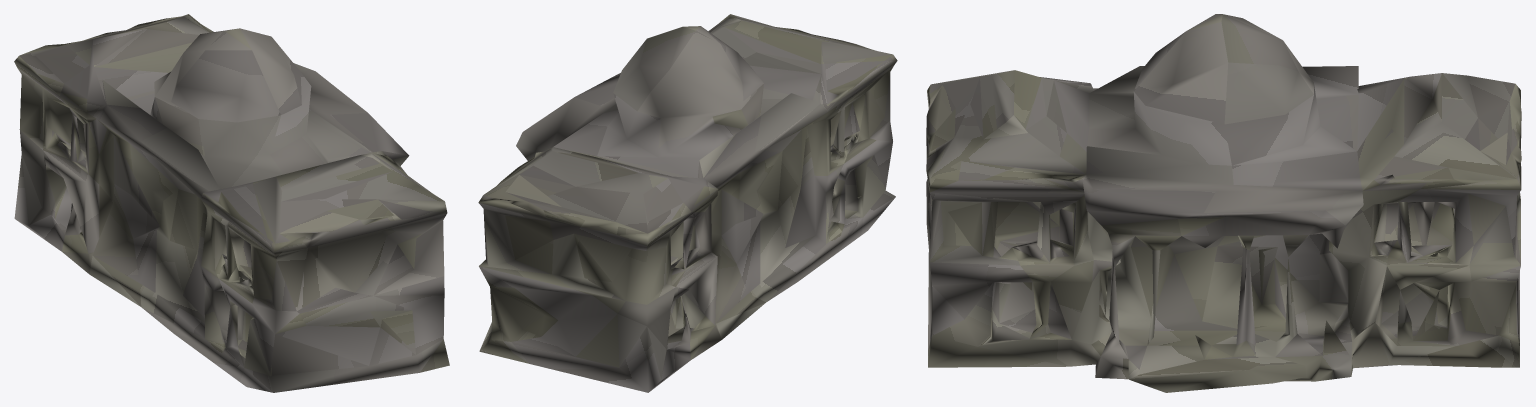
Rendered from house_noble_1_lo.glb.
The picture shows the model from 3 angles, left to right: view 1: azimuth 30°, elevation 25°; view 2: azimuth 150°, elevation 25°; view 3: azimuth 270°, elevation 25°; orthographic projection. The views are drawn at different scales.
Visible parts, largest first — view 1: tripo_node_bf53fd1a-f9f2-4a5b-9f5e-ce46a4f59928; view 2: tripo_node_bf53fd1a-f9f2-4a5b-9f5e-ce46a4f59928; view 3: tripo_node_bf53fd1a-f9f2-4a5b-9f5e-ce46a4f59928.
Part boxes in pixels (bbox=[...]): tripo_node_bf53fd1a-f9f2-4a5b-9f5e-ce46a4f59928: bbox=[14, 14, 449, 392]; tripo_node_bf53fd1a-f9f2-4a5b-9f5e-ce46a4f59928: bbox=[478, 14, 897, 392]; tripo_node_bf53fd1a-f9f2-4a5b-9f5e-ce46a4f59928: bbox=[926, 14, 1521, 392].
Size of the model in its own units: 0.4817 by 0.5442 by 0.9774.
Materials: 1 (1 with a texture image).
